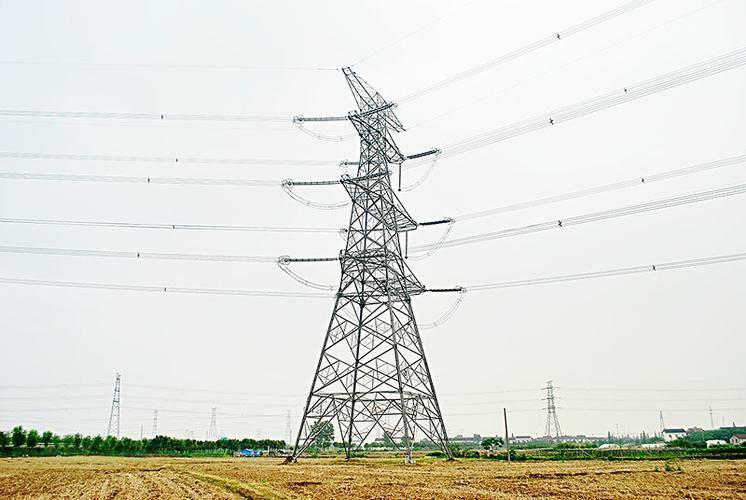power_tower: (266, 55, 462, 467)
